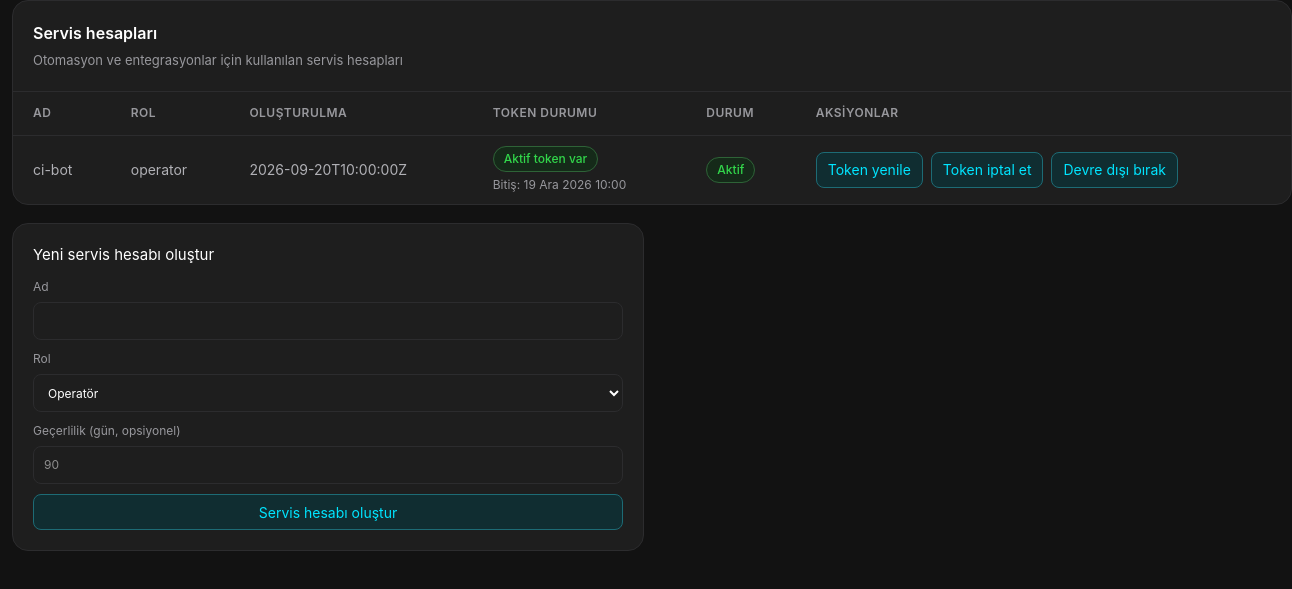
Test: SettingsServiceAccountsTab › disables a service account with a CSRF header and shows the disabled status
This screenshot has width=1292, height=589.
expect the text "Aktif" is shown: met, box [706,157,755,183]
Click the button "Devre dışı bırak" at (1115, 170), box [1052,152,1178,188]
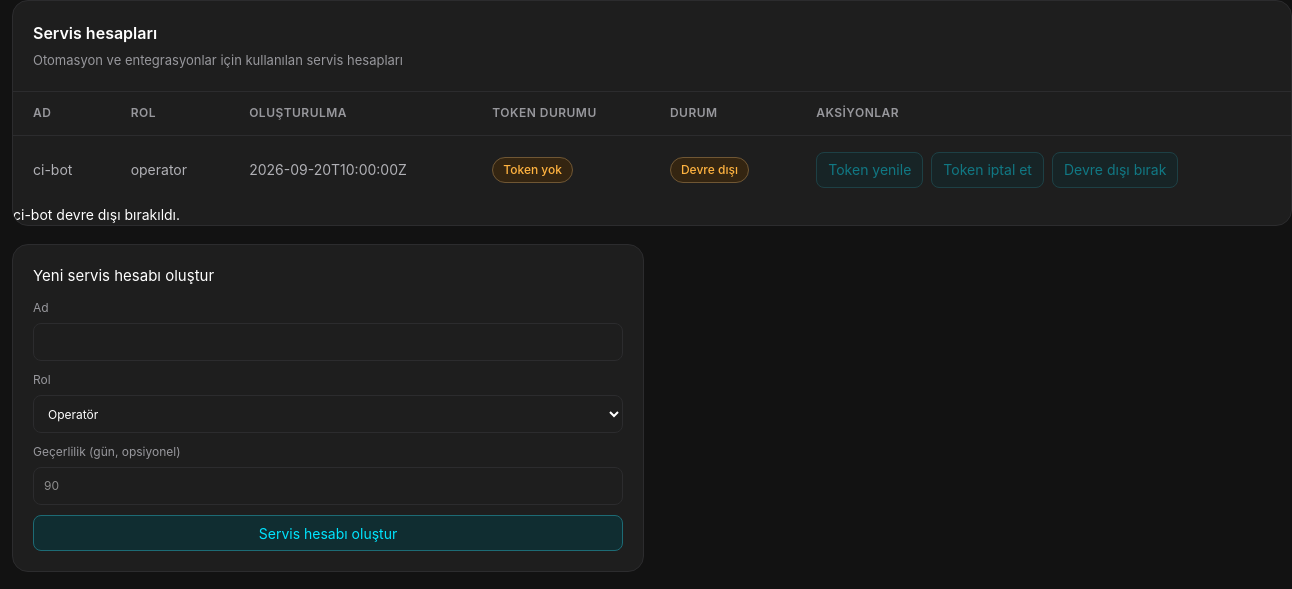
expect the text "ci-bot devre dışı bırakıldı." is shown: met, box [13,206,180,222]
expect the text "Devre dışı" is shown: met, box [670,157,749,183]
